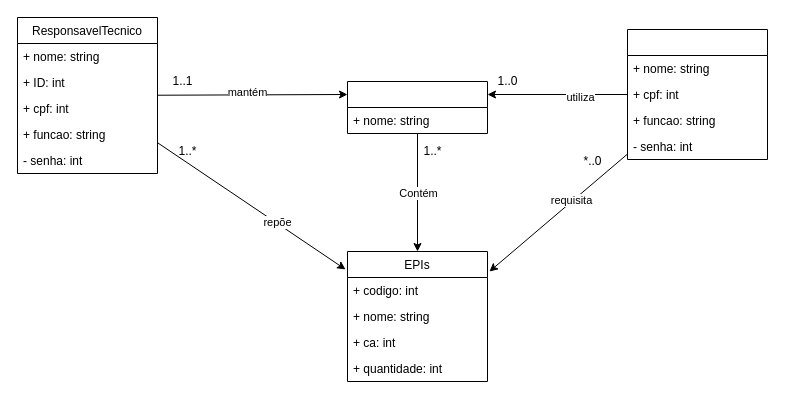
Some shapes in this 785 by 402 pixel diagram are drawn without their labels. The shapes that lost their labels are listed below. From the top down, each one's box as (x1, y1, x2, y2) in pixels, then its label:
(346, 80, 488, 134): EPI VendingMachine
(626, 28, 768, 160): FuncionarioUsuario
